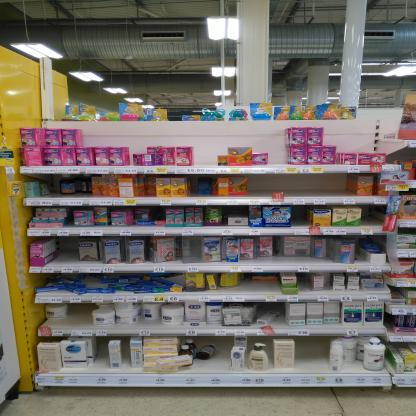Void: (248, 174, 355, 197), (196, 338, 229, 372), (299, 339, 330, 369), (44, 176, 90, 196), (53, 240, 80, 264), (188, 178, 218, 198), (195, 146, 222, 168), (90, 338, 108, 369), (363, 206, 388, 228), (260, 303, 285, 324), (70, 306, 93, 326), (268, 145, 289, 164), (294, 206, 306, 226), (230, 206, 245, 217)
